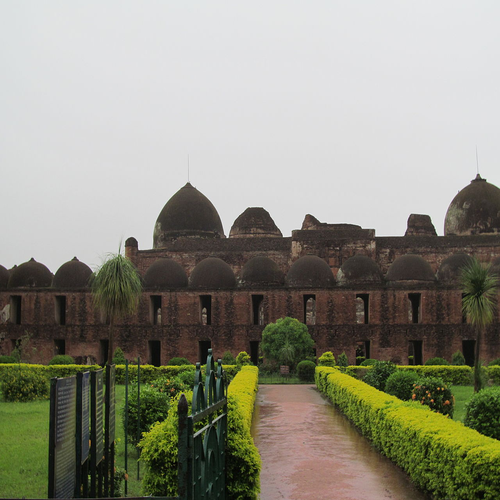Mosque: (5, 141, 500, 378)
